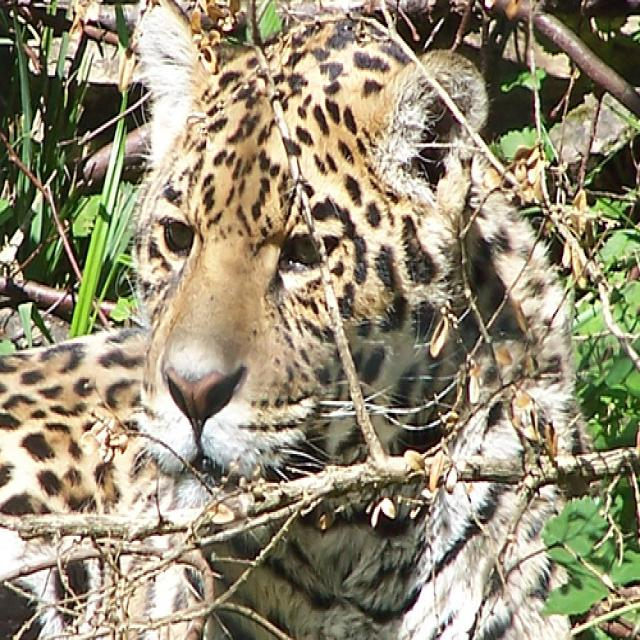Leopard: (0, 0, 577, 636)
